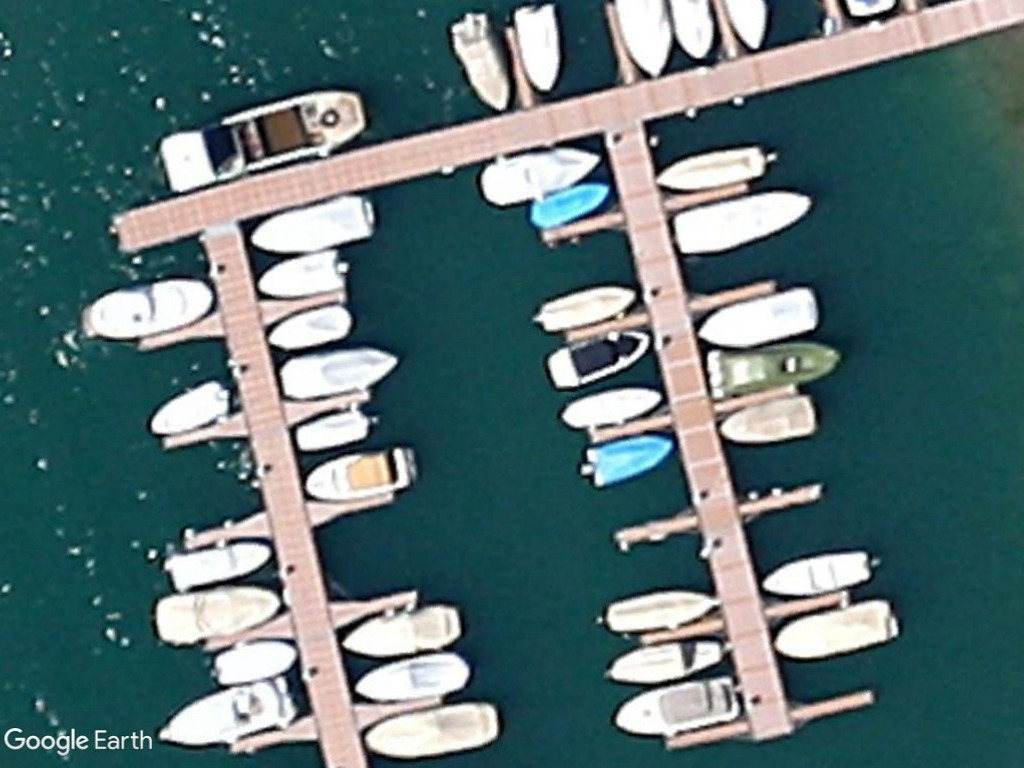boat: (155, 84, 366, 197), (155, 675, 297, 752), (668, 189, 816, 262), (703, 328, 841, 402), (78, 273, 223, 341), (152, 579, 284, 652), (771, 591, 902, 663), (477, 134, 601, 210), (243, 191, 385, 255), (361, 698, 504, 760), (696, 281, 823, 349), (609, 675, 741, 739), (337, 601, 468, 663), (543, 320, 652, 392), (277, 341, 401, 402), (445, 8, 514, 117), (300, 443, 417, 507), (352, 650, 475, 707), (757, 541, 878, 598), (599, 633, 729, 686), (647, 143, 765, 201), (162, 534, 278, 591), (601, 582, 716, 639), (532, 278, 636, 337), (142, 378, 237, 441), (255, 243, 353, 302), (717, 391, 822, 446), (555, 382, 665, 434), (578, 430, 674, 488), (263, 301, 365, 355), (510, 0, 564, 97), (527, 176, 616, 233), (207, 639, 301, 689), (291, 404, 372, 457)
